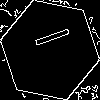I: (25, 25, 71, 53)
